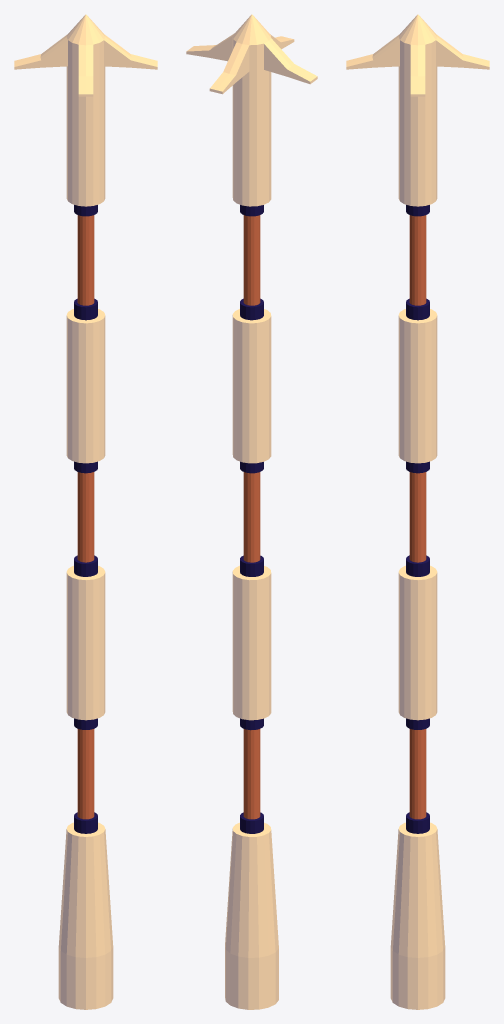
The model's file is ShieldGenerator.fbx.
3 renders of one model, left to right at view 1: azimuth 90°, elevation 25°; view 2: azimuth 150°, elevation 25°; view 3: azimuth 270°, elevation 25°, orthographic.
Visible parts, largest first — view 1: ShieldGenerator_LOD0; view 2: ShieldGenerator_LOD0; view 3: ShieldGenerator_LOD0.
Part boxes in pixels (<box>): ShieldGenerator_LOD0: <box>14,14,157,1009</box>; ShieldGenerator_LOD0: <box>186,14,317,1009</box>; ShieldGenerator_LOD0: <box>346,14,489,1009</box>.
Size of what is drawn, in the model's own units: 10000 by 75894 by 10000.
